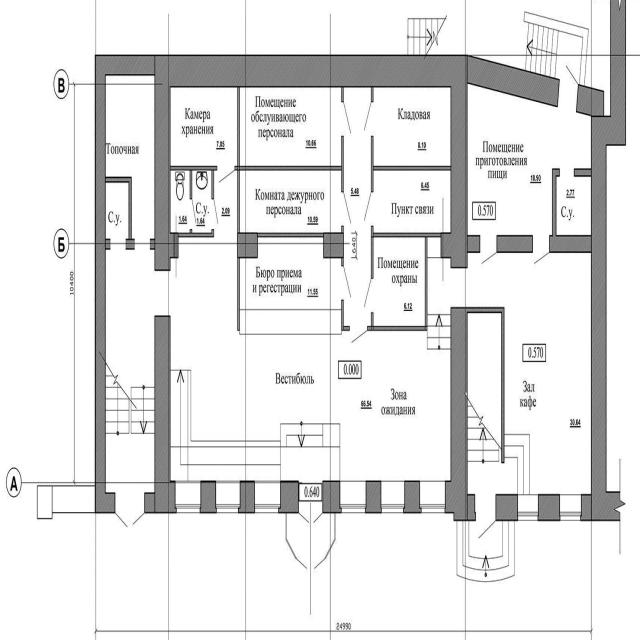Bathrooms: (557, 177, 591, 235), (106, 183, 128, 239), (192, 171, 211, 232), (171, 171, 189, 232)
Corridors: (171, 171, 450, 481), (106, 76, 155, 239), (344, 88, 371, 324), (374, 88, 451, 165), (171, 88, 237, 164), (287, 514, 334, 558)
Doors: (115, 491, 145, 531), (298, 481, 323, 526), (558, 63, 579, 112), (475, 494, 496, 541), (155, 270, 170, 315), (480, 233, 497, 268), (532, 235, 550, 267), (451, 269, 465, 306), (342, 190, 353, 227), (363, 189, 374, 226), (297, 558, 326, 572), (218, 166, 236, 188), (363, 100, 374, 136), (341, 101, 352, 136), (342, 265, 353, 299), (363, 279, 374, 312), (350, 326, 368, 345), (189, 198, 197, 229), (212, 199, 220, 230), (110, 239, 126, 250), (135, 238, 150, 249), (559, 170, 574, 177), (501, 463, 504, 494)
LBwalls: (95, 53, 468, 514), (575, 0, 626, 523), (144, 315, 177, 513), (467, 54, 560, 107), (445, 306, 466, 521), (550, 235, 591, 253), (497, 234, 533, 254), (278, 480, 299, 513), (322, 481, 342, 513), (538, 494, 560, 523), (238, 480, 255, 515), (496, 494, 518, 521), (323, 232, 344, 259), (404, 481, 421, 514), (237, 232, 258, 258), (366, 480, 382, 514), (200, 481, 216, 513), (467, 494, 477, 521), (467, 236, 480, 253)
Offices: (466, 253, 591, 494), (468, 85, 591, 235), (240, 239, 341, 334), (240, 87, 341, 164), (240, 171, 341, 232), (374, 171, 450, 232), (374, 238, 424, 324)
Stairs: (170, 368, 341, 481), (406, 13, 582, 85), (106, 250, 154, 492), (468, 313, 501, 494), (457, 521, 515, 583), (427, 237, 451, 349), (505, 433, 530, 494)
Walls: (234, 87, 344, 232), (465, 306, 505, 521), (367, 224, 441, 331), (371, 135, 452, 192), (524, 12, 588, 84), (105, 176, 132, 239), (170, 165, 217, 200), (285, 514, 297, 561), (552, 168, 560, 236), (325, 514, 336, 560), (258, 233, 323, 238), (179, 228, 214, 237), (341, 299, 350, 331), (574, 169, 592, 177), (238, 258, 240, 330), (126, 239, 134, 250), (105, 239, 110, 250), (371, 86, 374, 103), (150, 239, 155, 249), (342, 257, 344, 267), (341, 226, 344, 232), (342, 87, 343, 103)
Windows: (420, 482, 446, 513), (340, 482, 366, 513), (176, 481, 201, 512), (216, 480, 240, 512), (255, 482, 280, 512), (381, 481, 404, 512), (560, 496, 581, 521), (518, 494, 538, 520)
